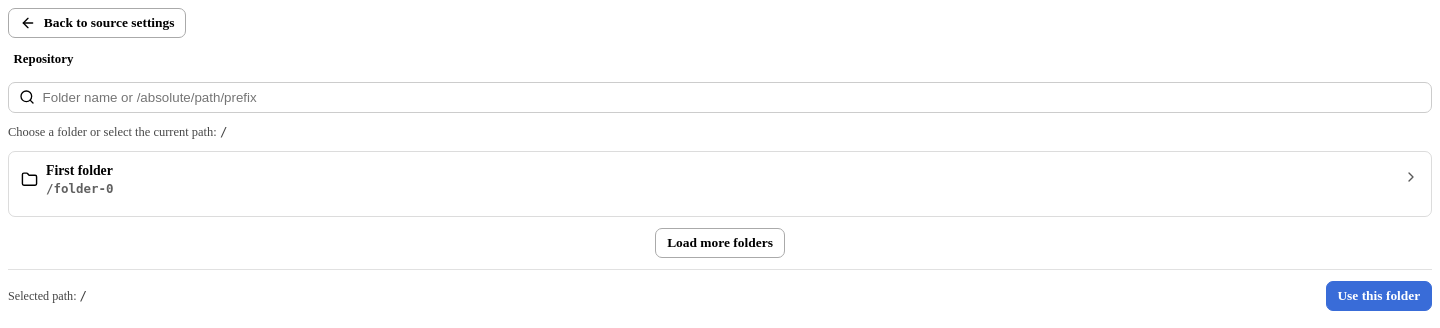
NuxeoPathPicker › loads the next route page only when requested
Expected: the text "First folder" is shown, [46, 163, 113, 178]
Click the button "Load more folders": (720,243) [655, 228, 785, 258]
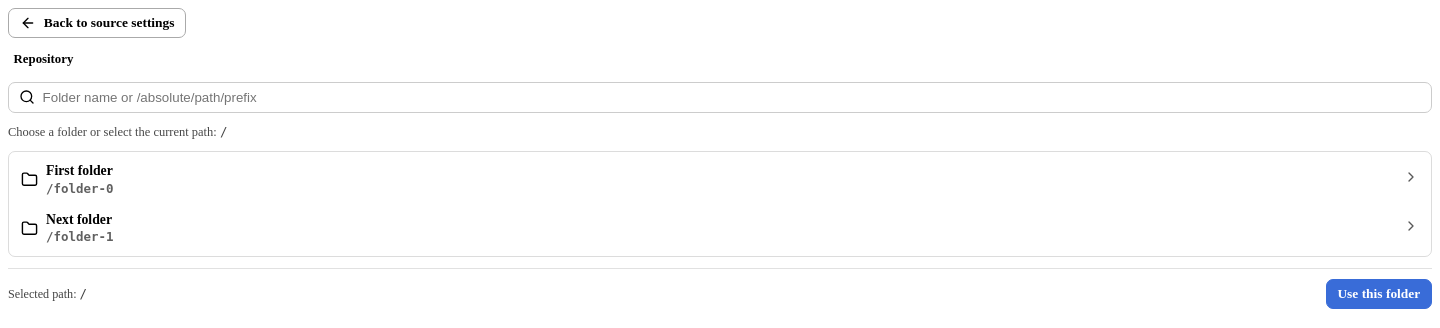
Now the text "Next folder" is shown, box [46, 212, 112, 227]
